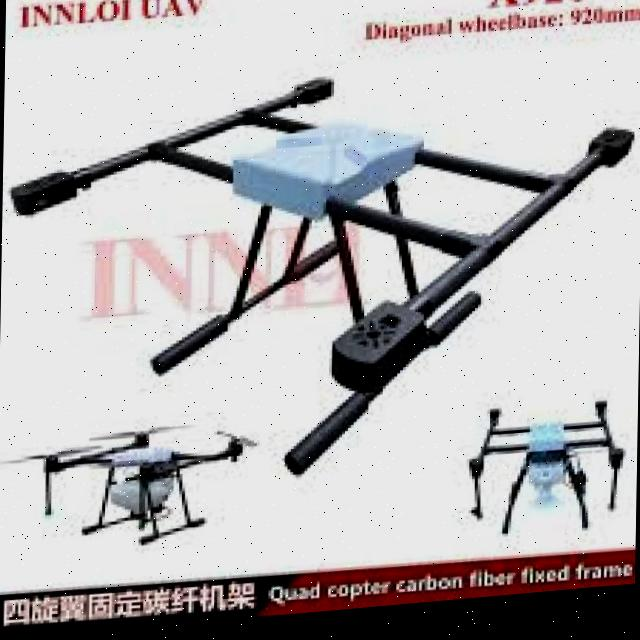drone: (0, 50, 629, 504), (12, 399, 260, 574), (459, 395, 625, 558)
